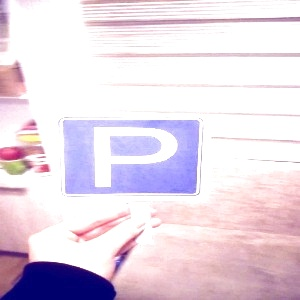park: (61, 120, 200, 192)
